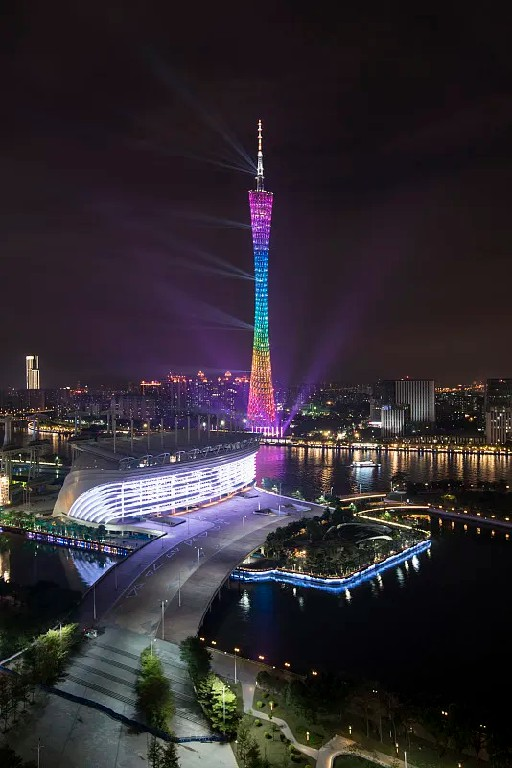Canton: (242, 118, 280, 427)
